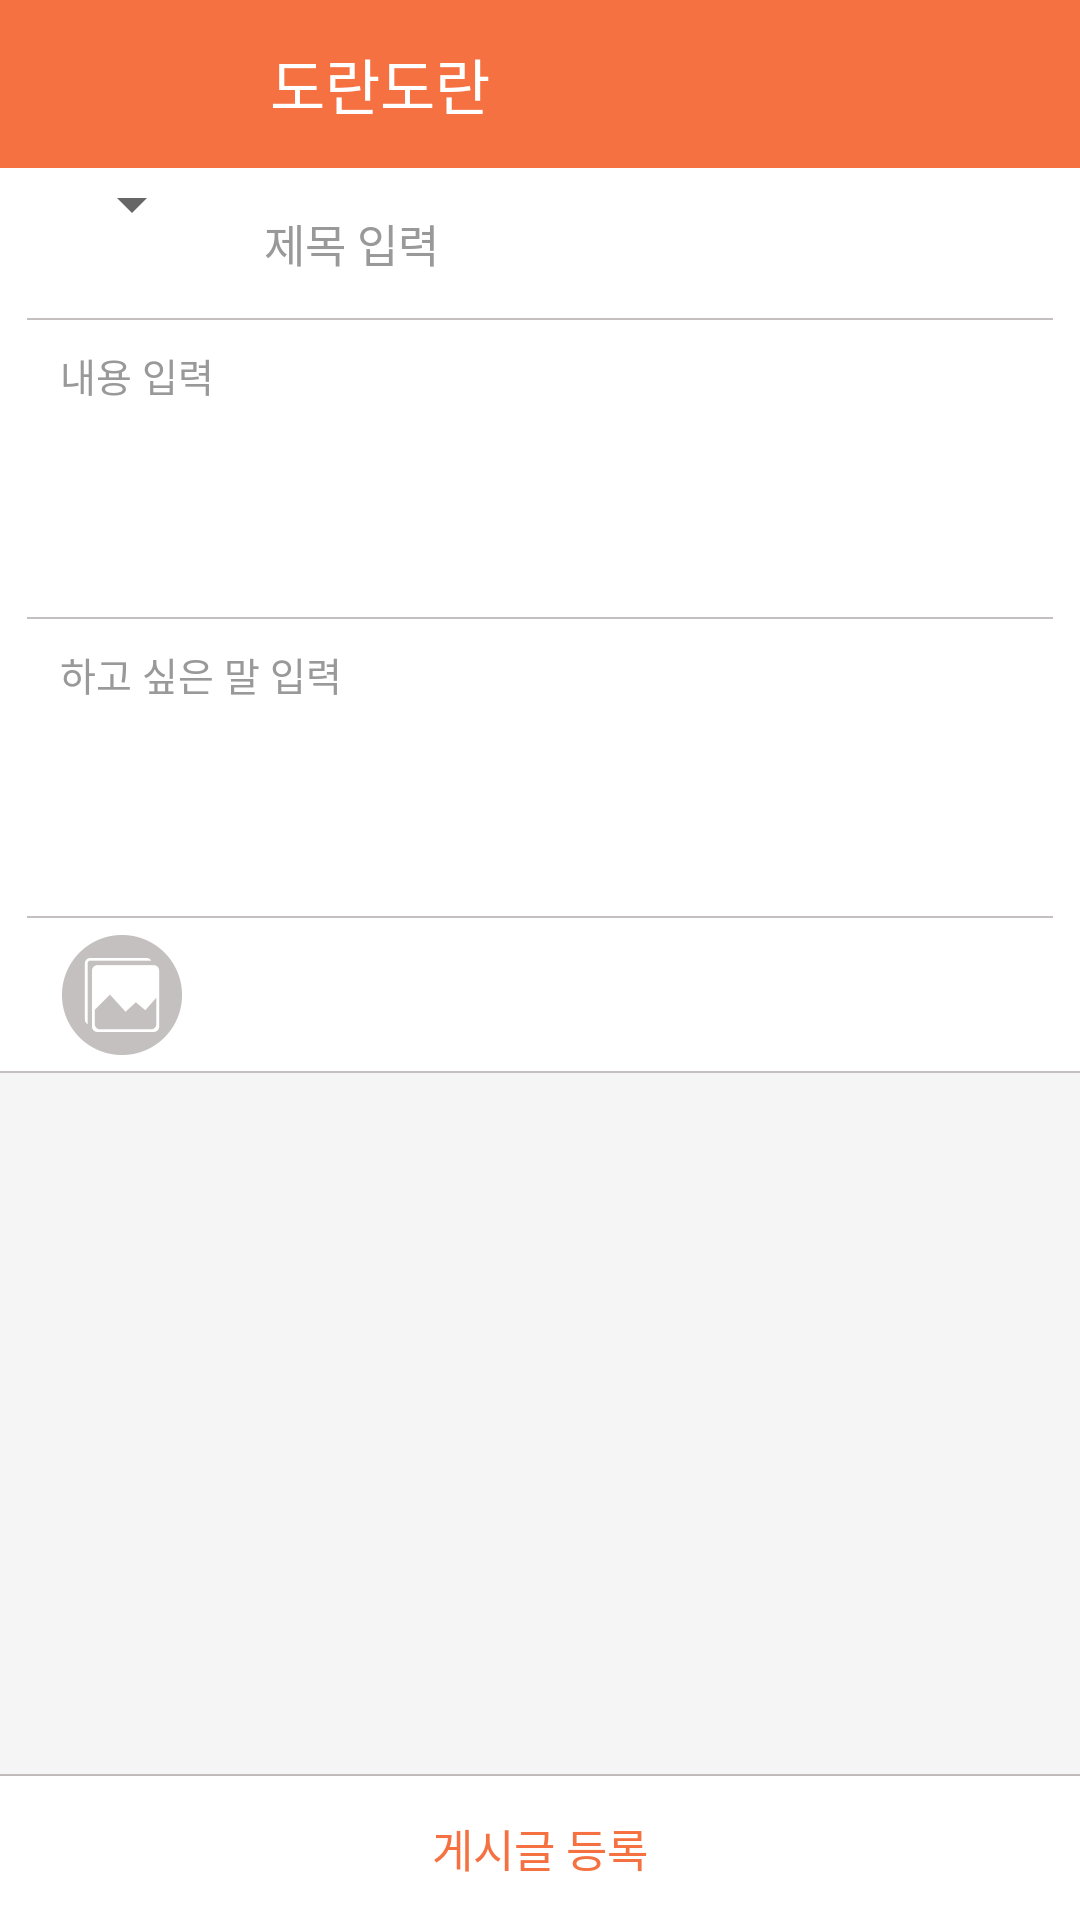

Named icons in this screenshot (1080×1920) and their bounding boxes, (x1, y1, x2, y2):
community typing album: (62, 935, 182, 1055)
